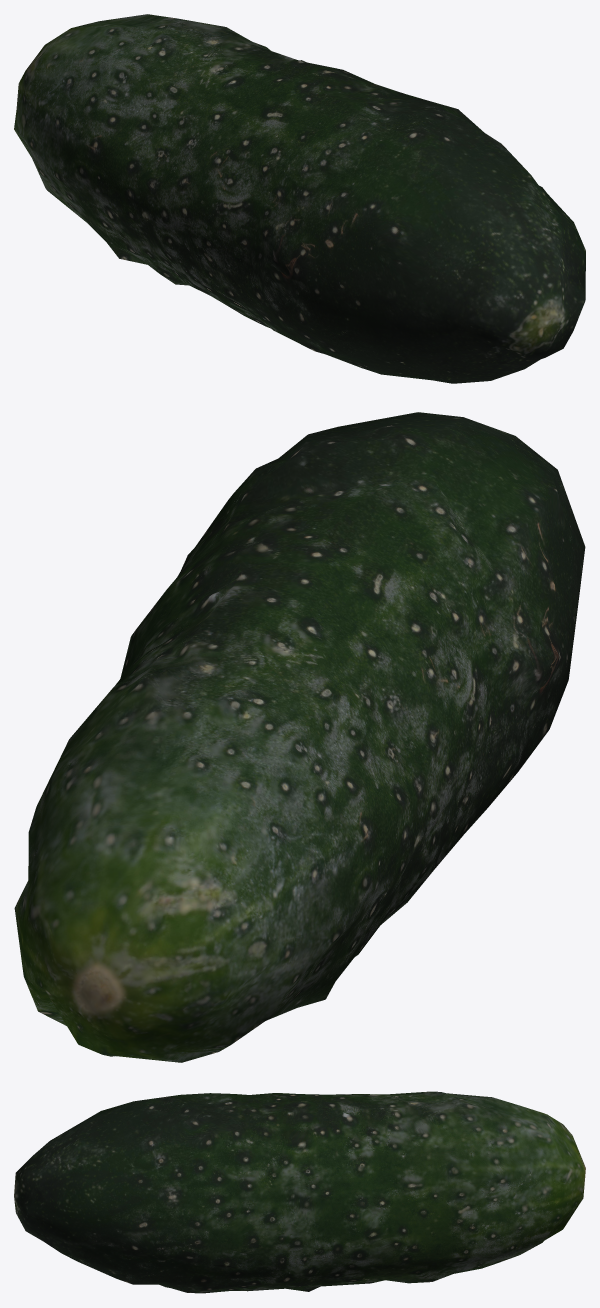
Rendered from cucumber.obj.
3 renders of one model, top to bottom at view 1: azimuth 30°, elevation 25°; view 2: azimuth 150°, elevation 25°; view 3: azimuth 270°, elevation 25°, orthographic. The views are drawn at different scales.
Parts seen in each view (by area): view 1: node_id18_mesh_id19; view 2: node_id18_mesh_id19; view 3: node_id18_mesh_id19.
Part boxes in pixels (x1,y1,x2,y2): node_id18_mesh_id19: [14, 14, 585, 383]; node_id18_mesh_id19: [14, 412, 585, 1062]; node_id18_mesh_id19: [14, 1091, 585, 1293].
Size of the model in its own units: 0.0547 by 0.0465 by 0.1295.
